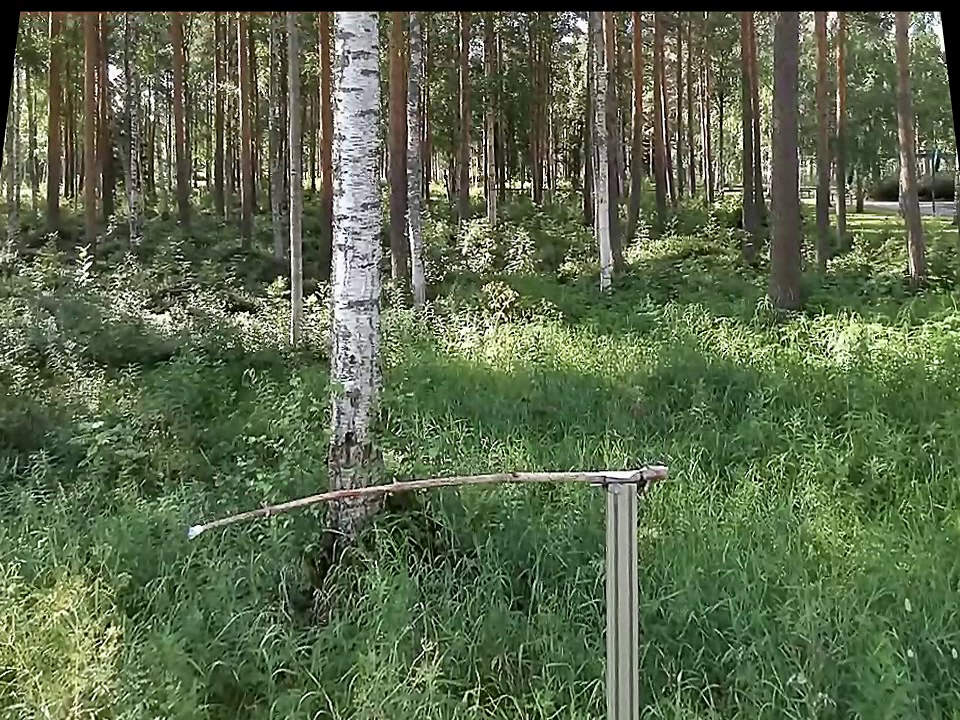aluminum_frame: (601, 490, 644, 714)
branch: (212, 457, 588, 540)
